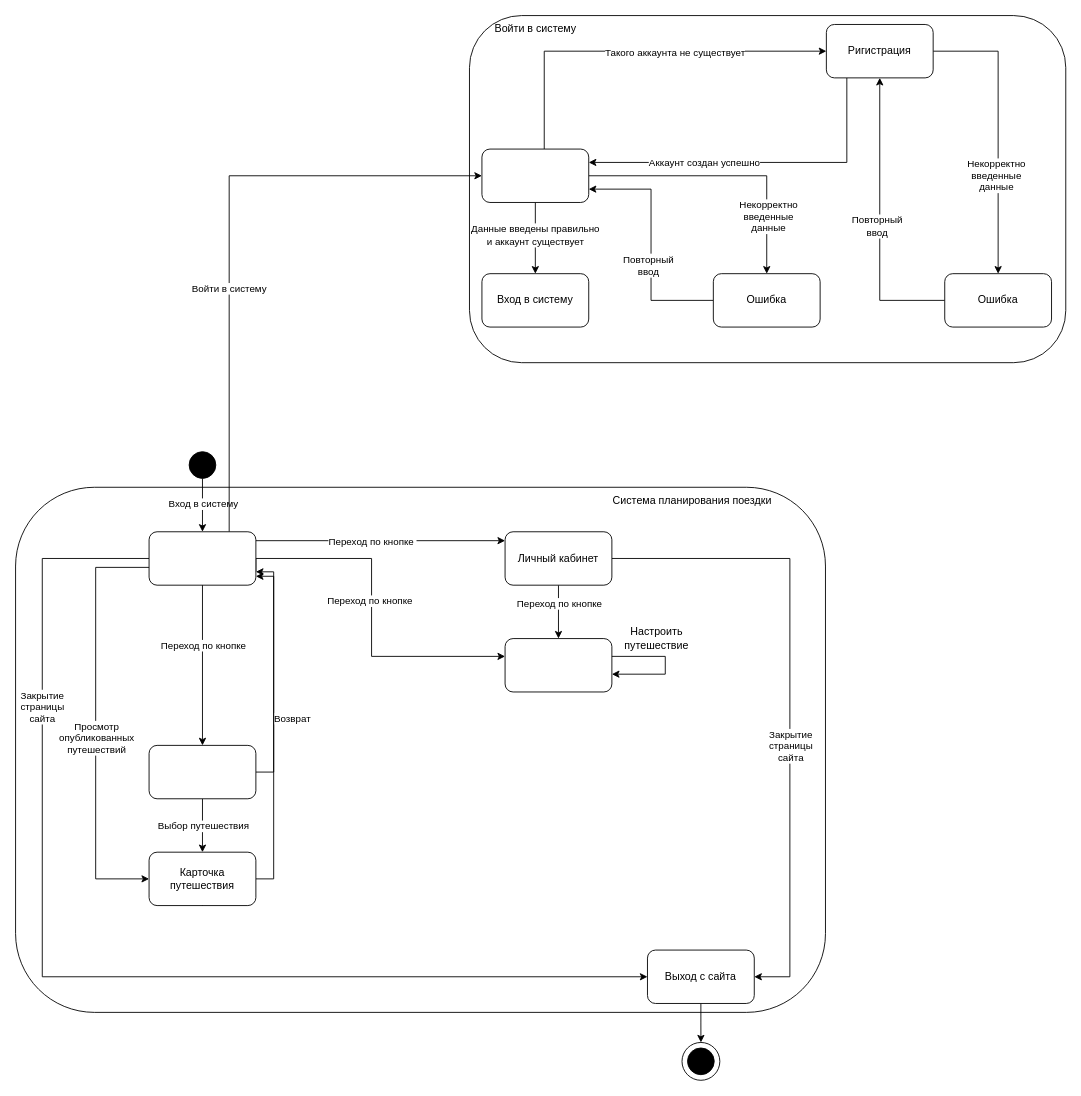
The diagram is 1081 pixels wide and 1096 high, and some of its shapes have lost their labels. The shapes that lost their labels are listed below. From the top down, each one's centre as x and y in pixels, then its label:
the point at 535,175: Авторизация
the point at 202,558: Главная страница
the point at 558,665: Создать поездку
the point at 202,771: Страница опубликованных путешествий
